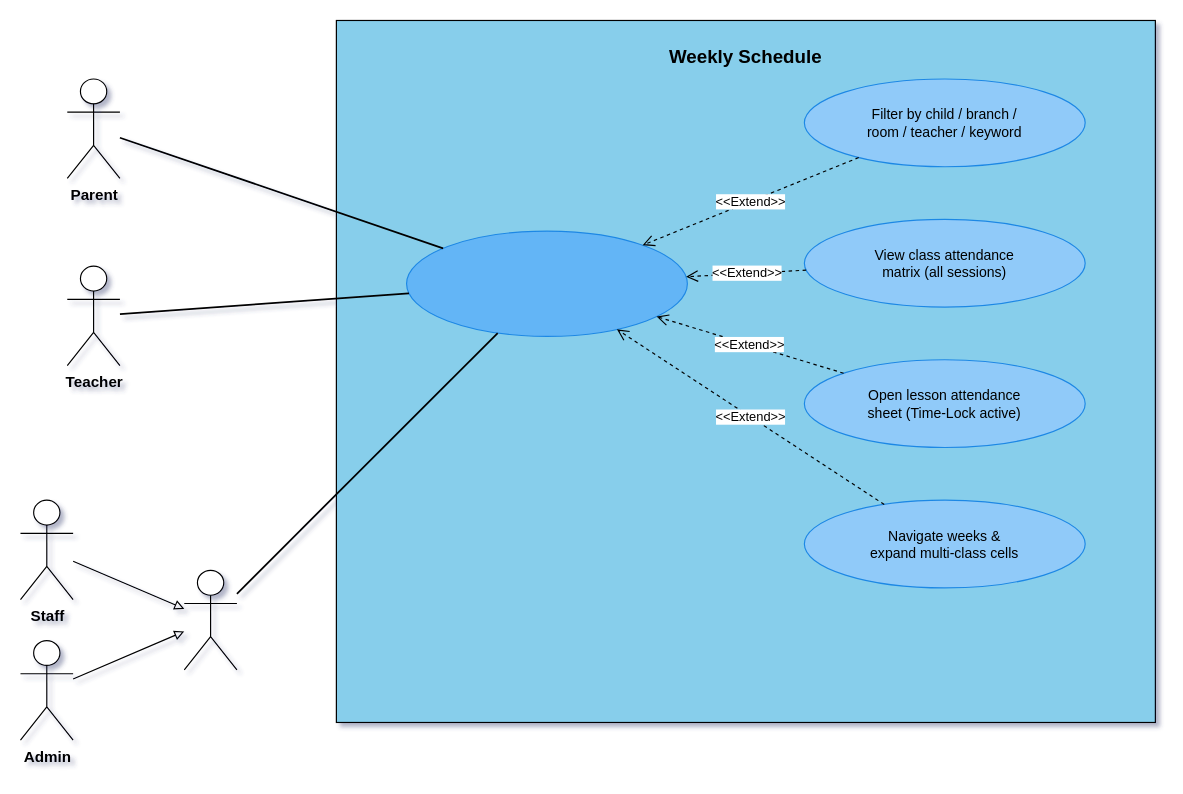
Image size: 1183x794. Some labels were removed from this diagram. The box of each missing label's shape, as (x1, y1, x2, y2) in pixels:
Academic Operator: (183, 569, 237, 670)
UC-WS-01: View weekly schedule matrix: (405, 230, 687, 336)
